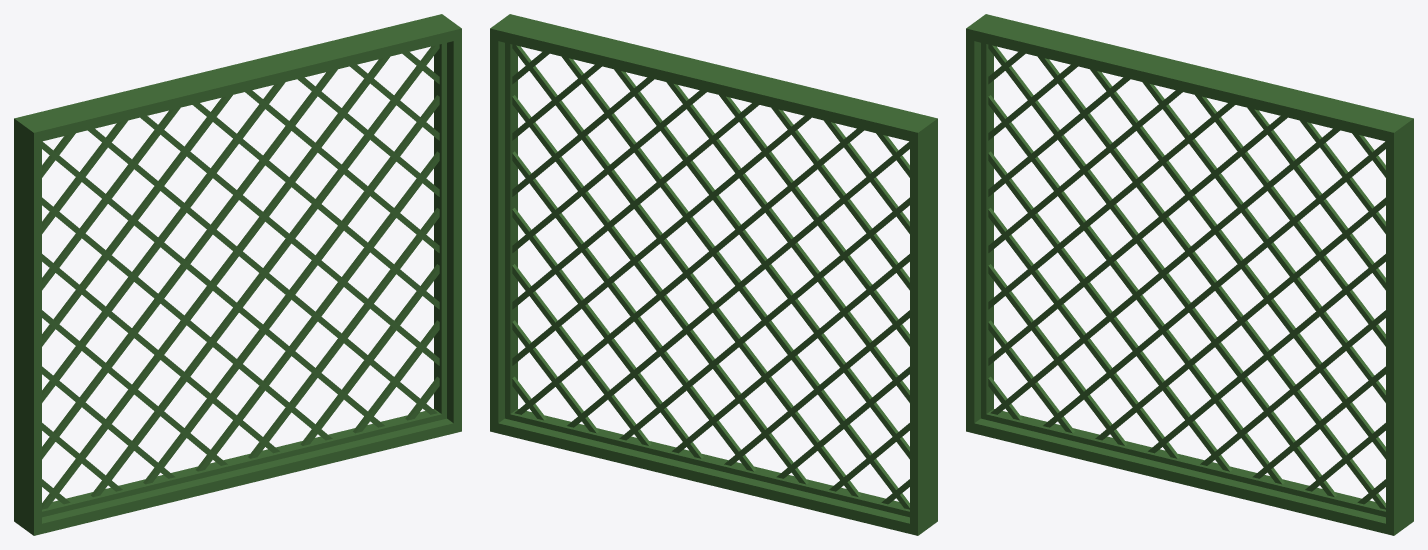
The model's file is M_Fence01_1.fbx.
The picture shows the model from 3 angles, left to right: view 1: azimuth 30°, elevation 25°; view 2: azimuth 150°, elevation 25°; view 3: azimuth 330°, elevation 25°; orthographic projection.
Visible parts, largest first — view 1: M_Fence01_1; view 2: M_Fence01_1; view 3: M_Fence01_1.
Part boxes in pixels (bbox=[...]): M_Fence01_1: bbox=[14, 14, 461, 535]; M_Fence01_1: bbox=[490, 14, 937, 535]; M_Fence01_1: bbox=[966, 14, 1413, 535].
Size of what is drawn, in the model's own units: 250 by 20 by 225.
